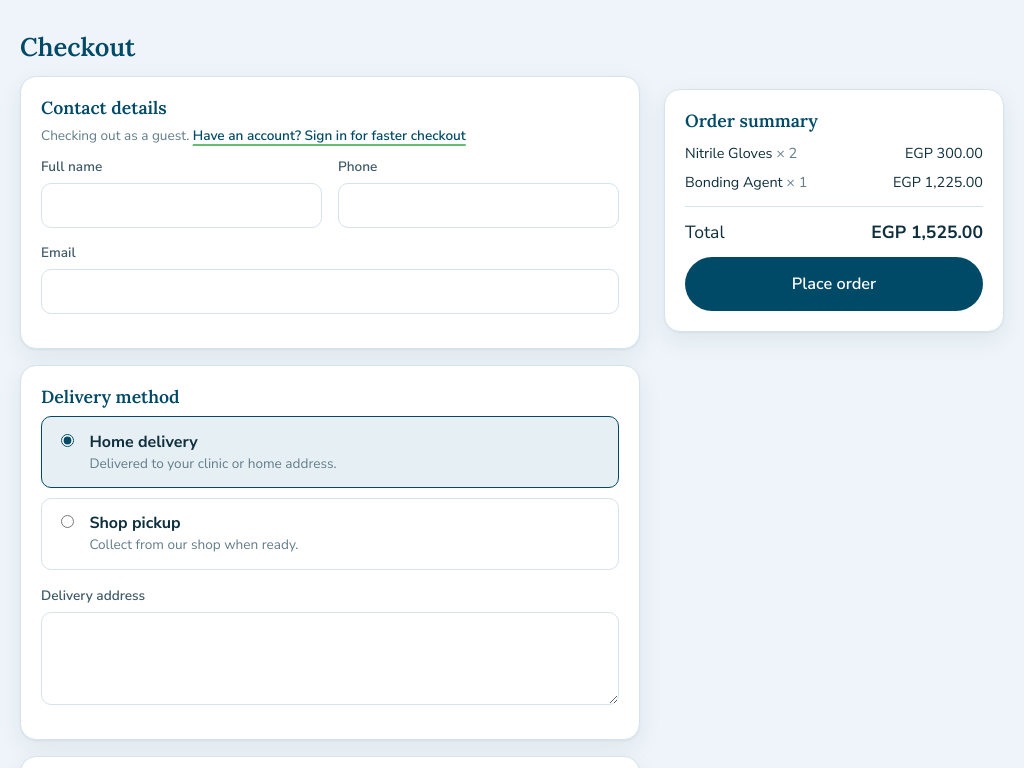
Checkout (guest) › a stock error from the server is shown and the cart is kept
This screenshot has width=1024, height=768.
In the field labelled "Full name": (182, 206) [41,183,322,228], type "Dr. Sara Mahmoud"
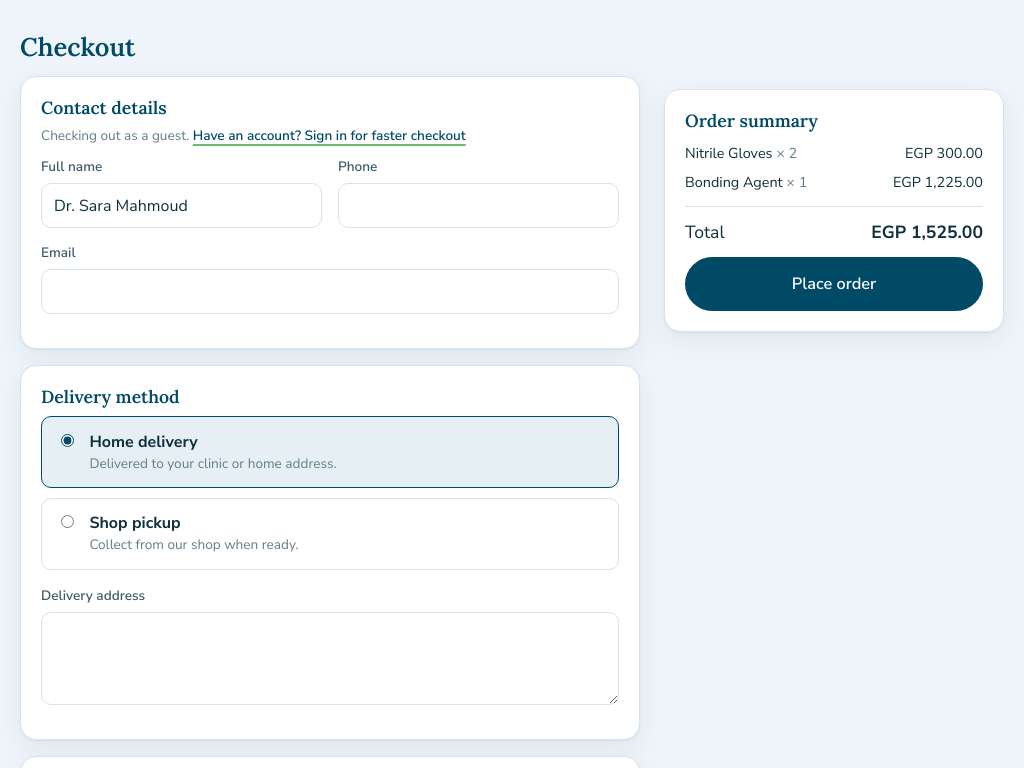
In the field labelled "Phone": (478, 206) [338,183,619,228], type "+20 100 111 2233"
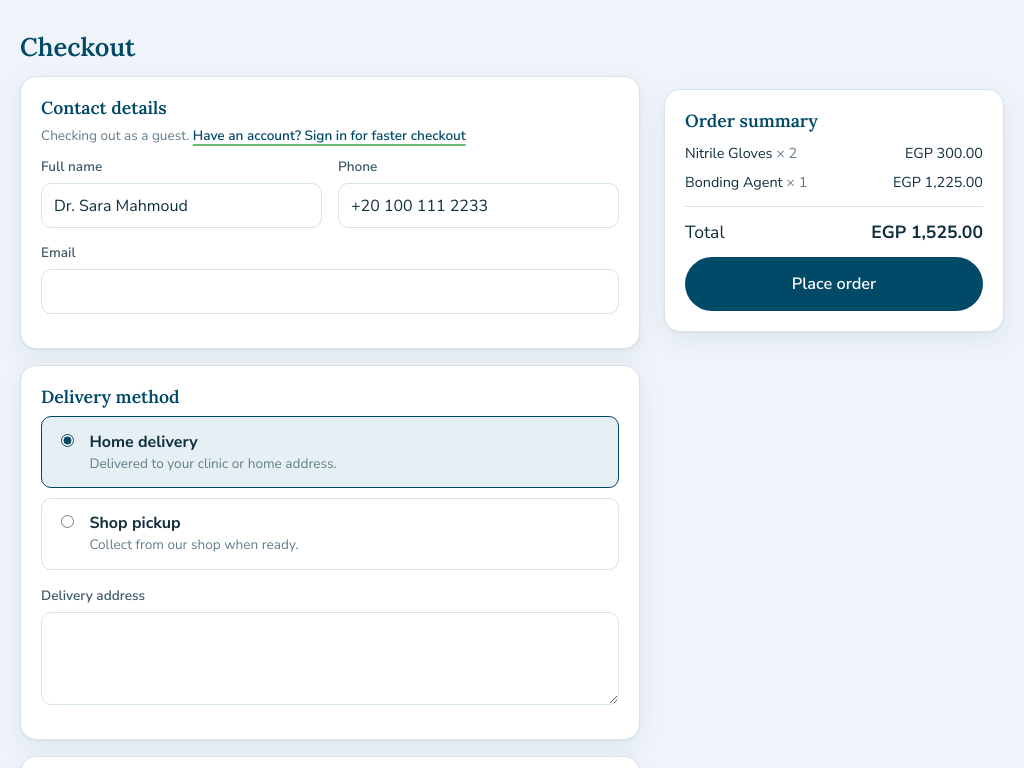
In the field labelled "Email": (330, 291) [41,268,619,314], type "sara@clinic.example"
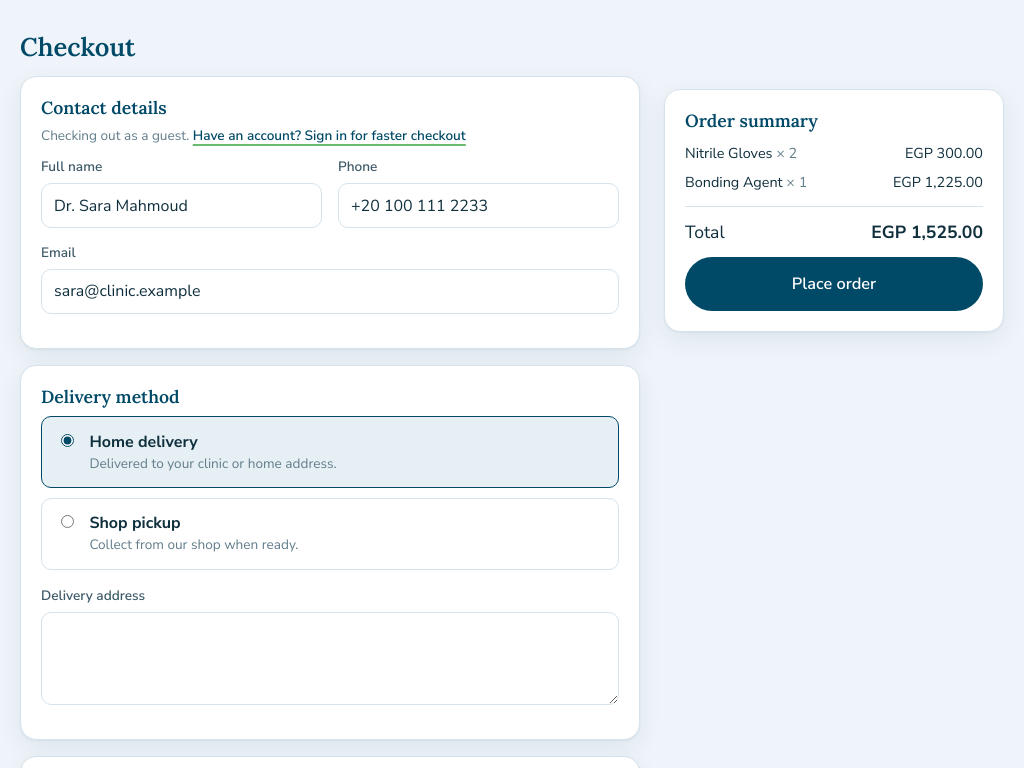
In the text box labelled "Delivery address": (330, 658) [41,612,619,705], type "Giza"
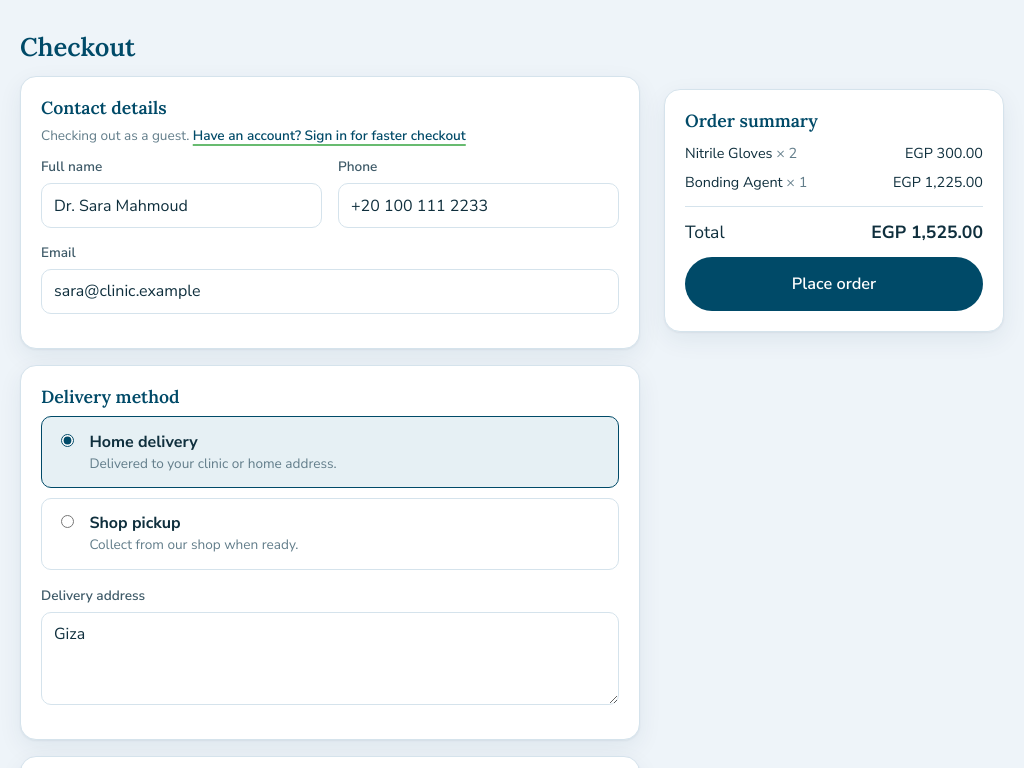
Click the button "Place order": (834, 284) [685,257,983,310]
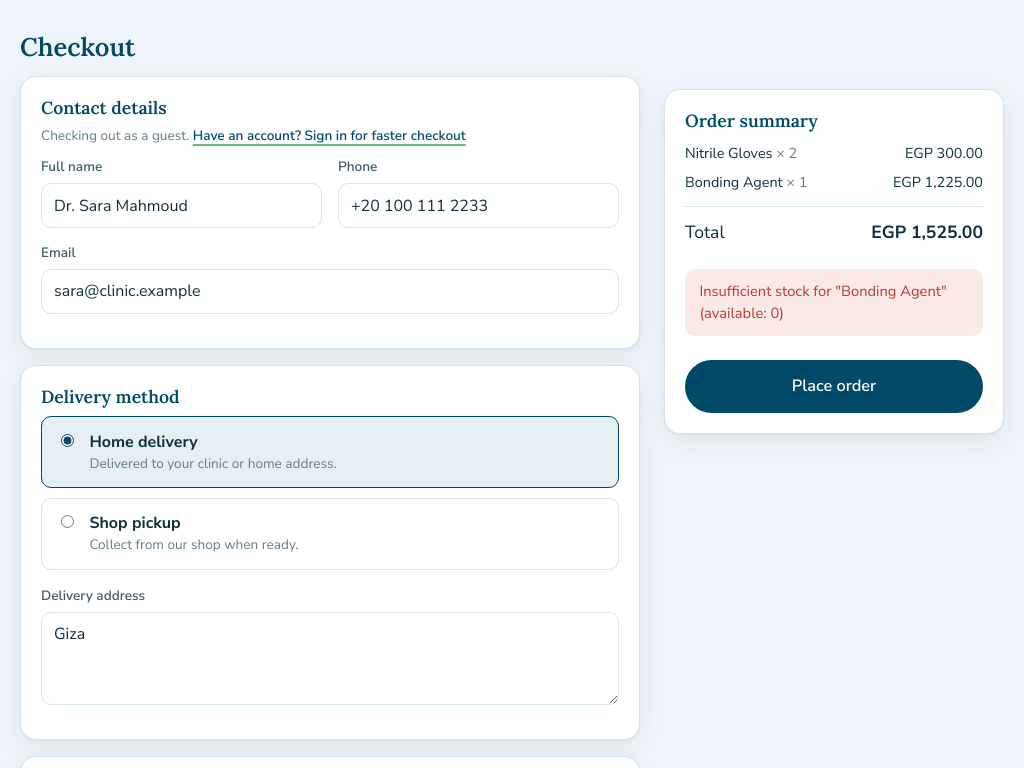
Expected: the button "Place order" is enabled, [685,359,983,413]
Expected: the text "Insufficient stock for \"Bonding Agent\" (available: 0)" is shown, [685,269,983,335]
